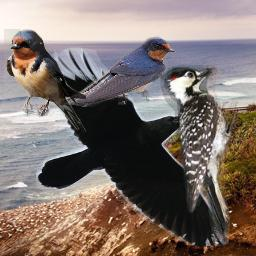Crow: (36, 46, 229, 246)
Swallow: (51, 36, 176, 107), (4, 29, 86, 133)
Woodpecker: (158, 65, 242, 241)
